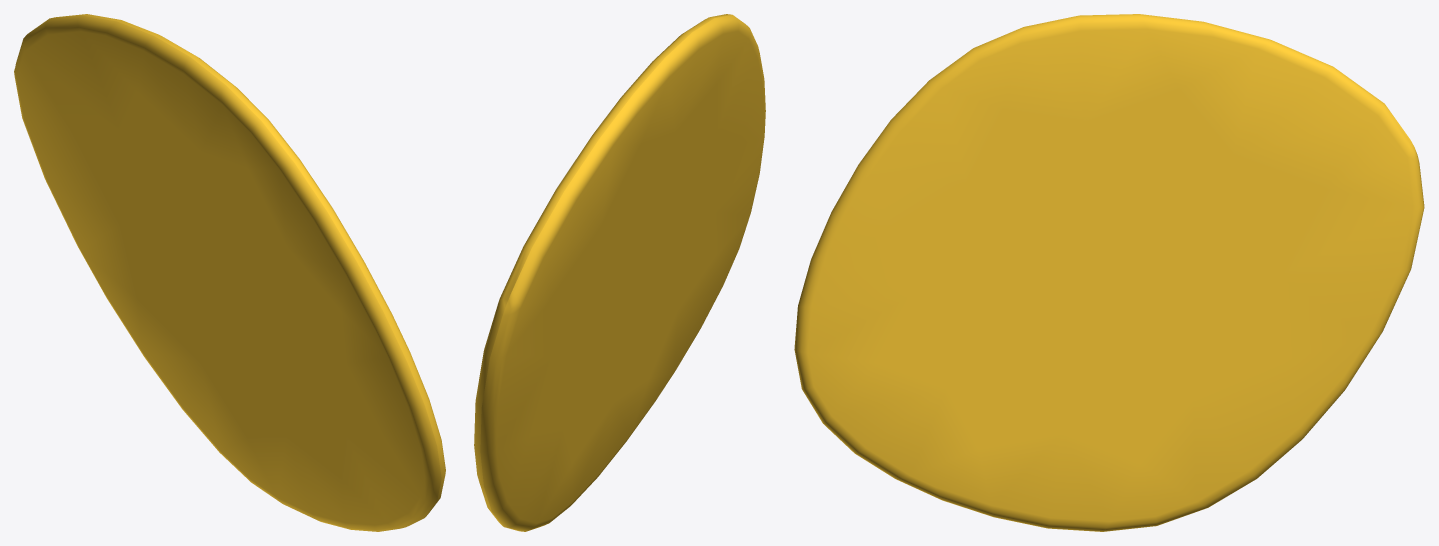
The model's file is fallLeaf_12.glb.
The picture shows the model from 3 angles, left to right: view 1: azimuth 30°, elevation 25°; view 2: azimuth 150°, elevation 25°; view 3: azimuth 270°, elevation 25°; orthographic projection. The views are drawn at different scales.
Visible parts, largest first — view 1: Leaf_YellowGreen_Wide.210; view 2: Leaf_YellowGreen_Wide.210; view 3: Leaf_YellowGreen_Wide.210.
Boxes of the visible parts, box(x1,y1,x2,y2) form: Leaf_YellowGreen_Wide.210: box(14, 14, 445, 531); Leaf_YellowGreen_Wide.210: box(474, 14, 765, 531); Leaf_YellowGreen_Wide.210: box(794, 14, 1424, 531).
Size of the model in its own units: 0.359 by 1.16 by 1.43.
